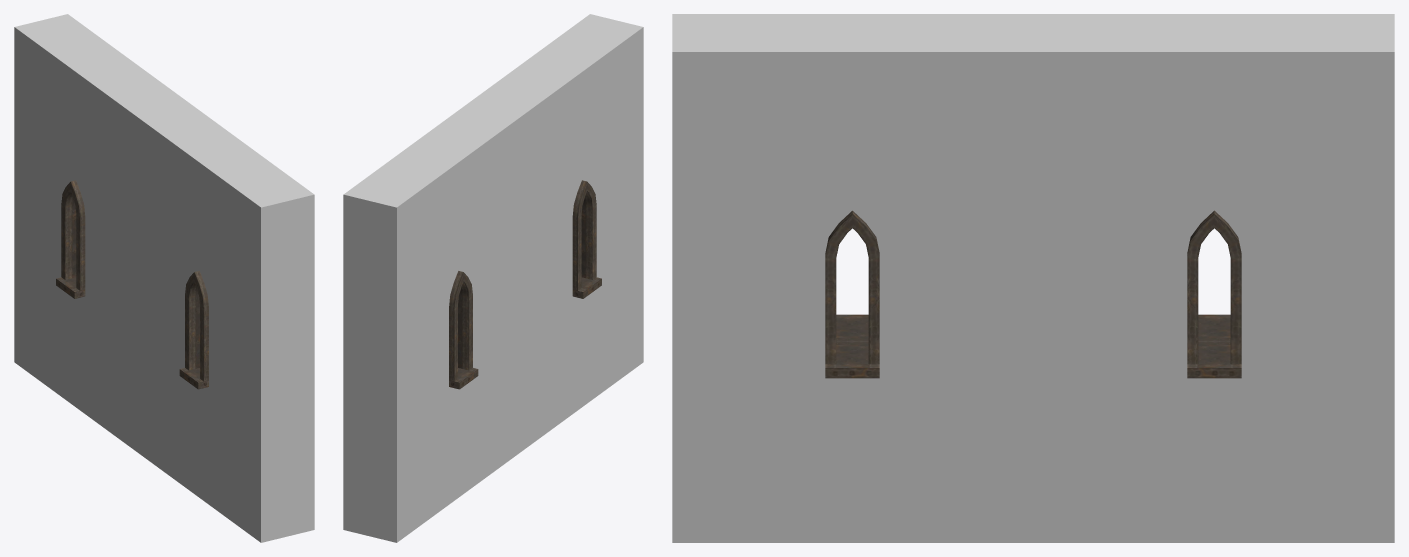
3 views of the same model, side by side, from view 1: azimuth 30°, elevation 25°; view 2: azimuth 150°, elevation 25°; view 3: azimuth 270°, elevation 25° (orthographic). The views are drawn at different scales.
Visible parts, largest first — view 1: SM_Dowdun_Wall_8x6_03_LOD0; view 2: SM_Dowdun_Wall_8x6_03_LOD0; view 3: SM_Dowdun_Wall_8x6_03_LOD0.
Boxes of the visible parts, left/top/right/bottom form: SM_Dowdun_Wall_8x6_03_LOD0: left=14, top=14, right=314, bottom=542; SM_Dowdun_Wall_8x6_03_LOD0: left=343, top=14, right=643, bottom=542; SM_Dowdun_Wall_8x6_03_LOD0: left=672, top=14, right=1394, bottom=542.
Bounding box in the file's own units: 1.4 × 6 × 8.
2 materials, 1 textured.
